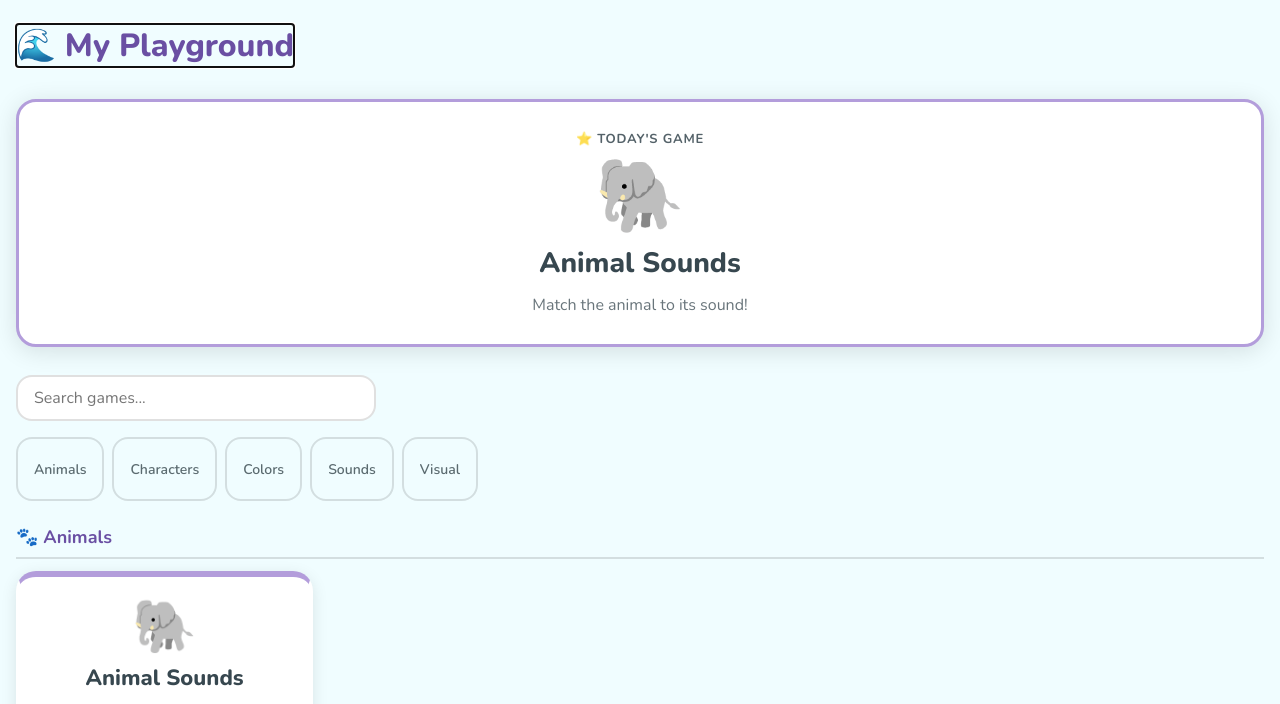
Test: Dashboard › search narrows which tag pills are shown to tags present among matches
The width and height of the screenshot is (1280, 704).
Type "animal" into the search field.
click(196, 398); type("animal")  # box [16, 375, 376, 421]
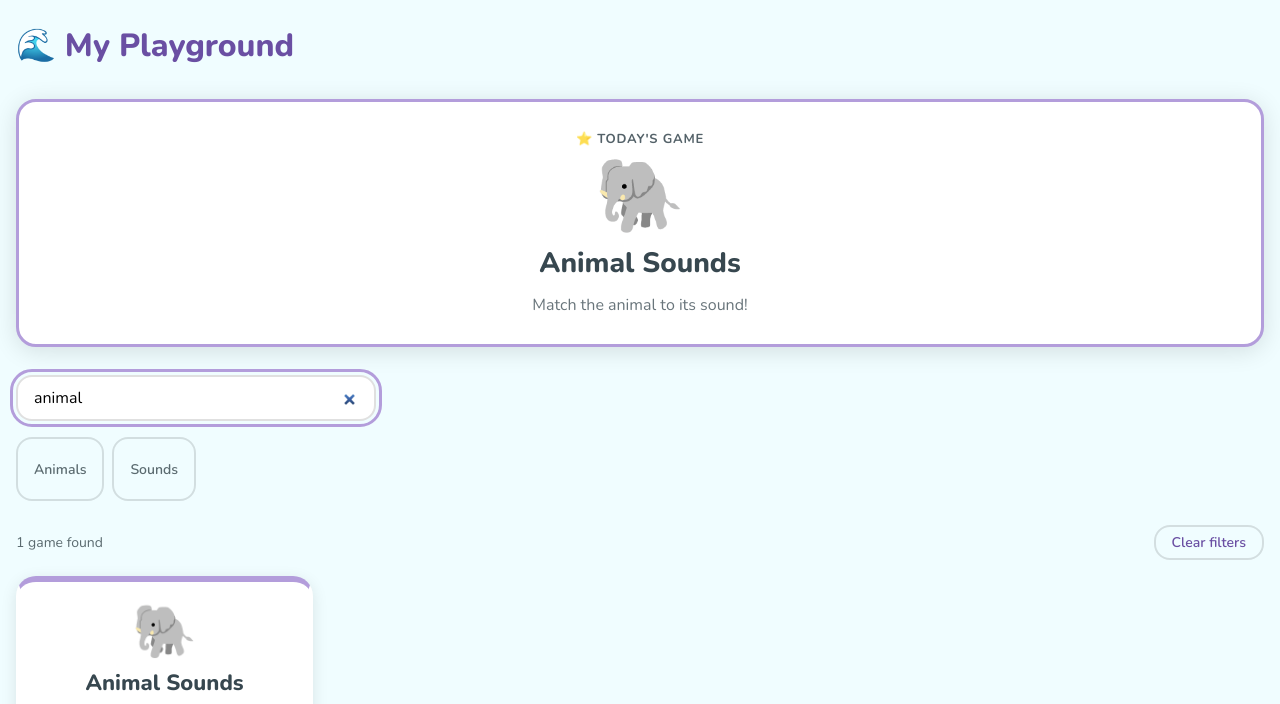
Expected: the button "Sounds" is shown, [112, 437, 196, 501]
Result: the button "Colors" is gone
